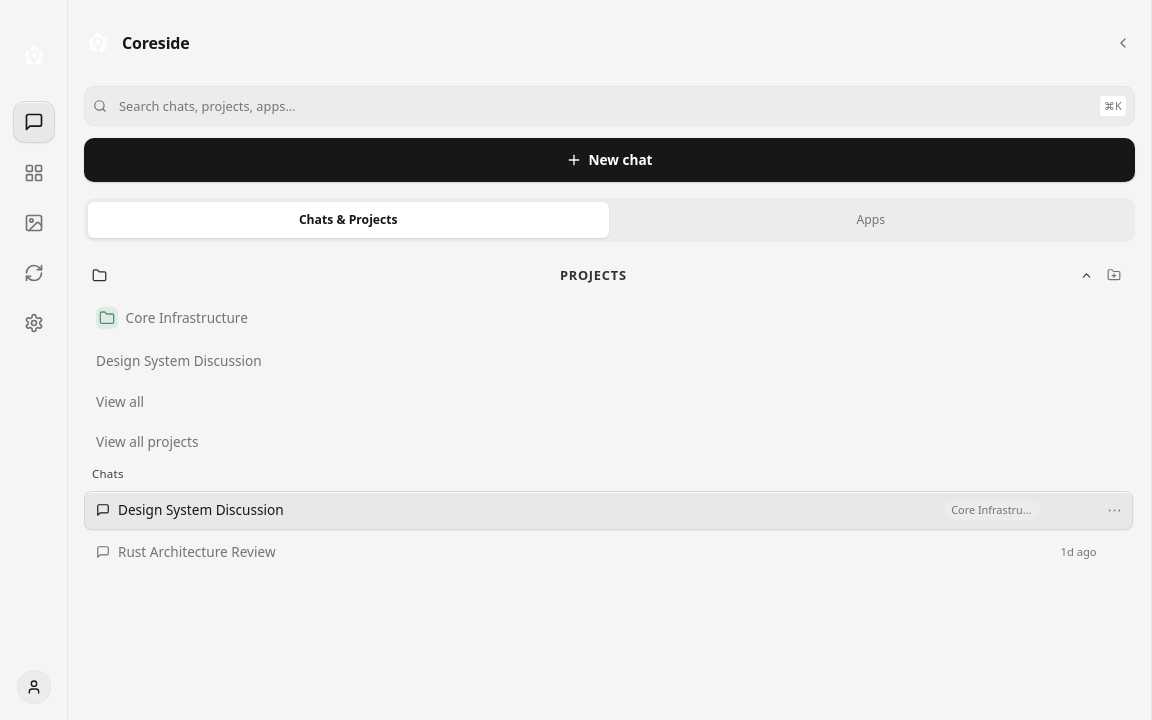
Scenario: DualSidebar Architecture › Unified Search & Keyboard Navigation (Cmd+K) › clears search input when clicking the clear (X) button
Type "Rust" into the search field named "Search chats, projects, and apps" at (610, 106), box [84,86,1135,126]
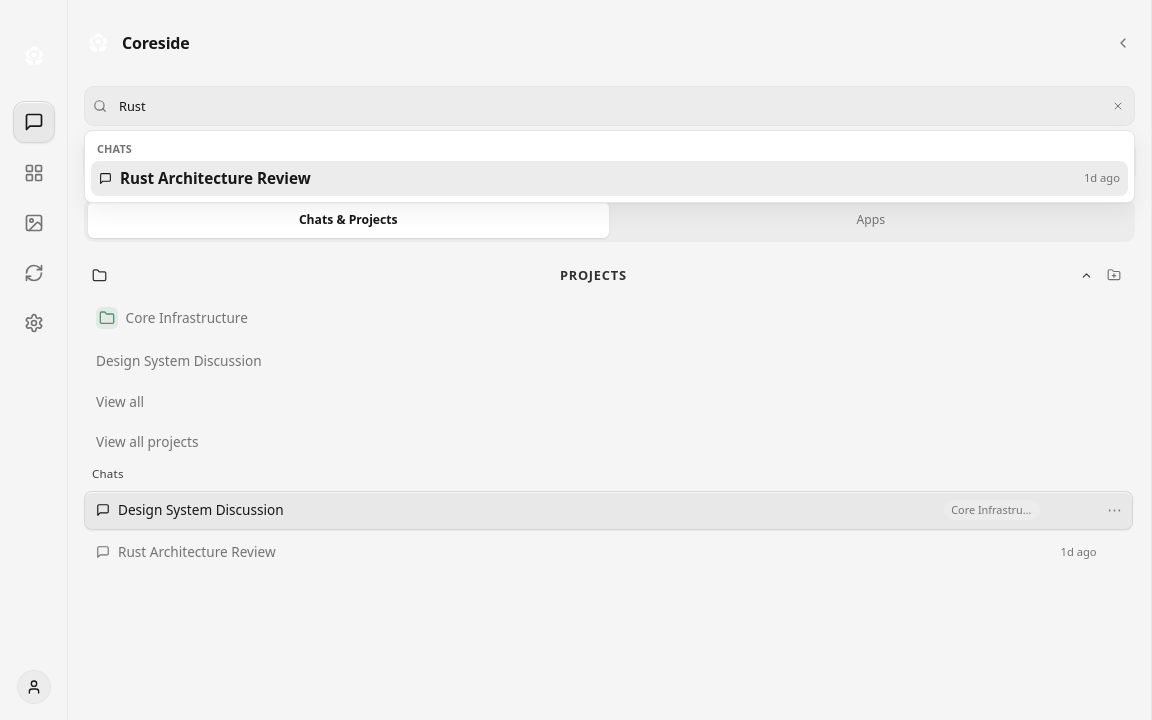
Click the button named "Clear search" at (1118, 106), box [1109,97,1127,115]
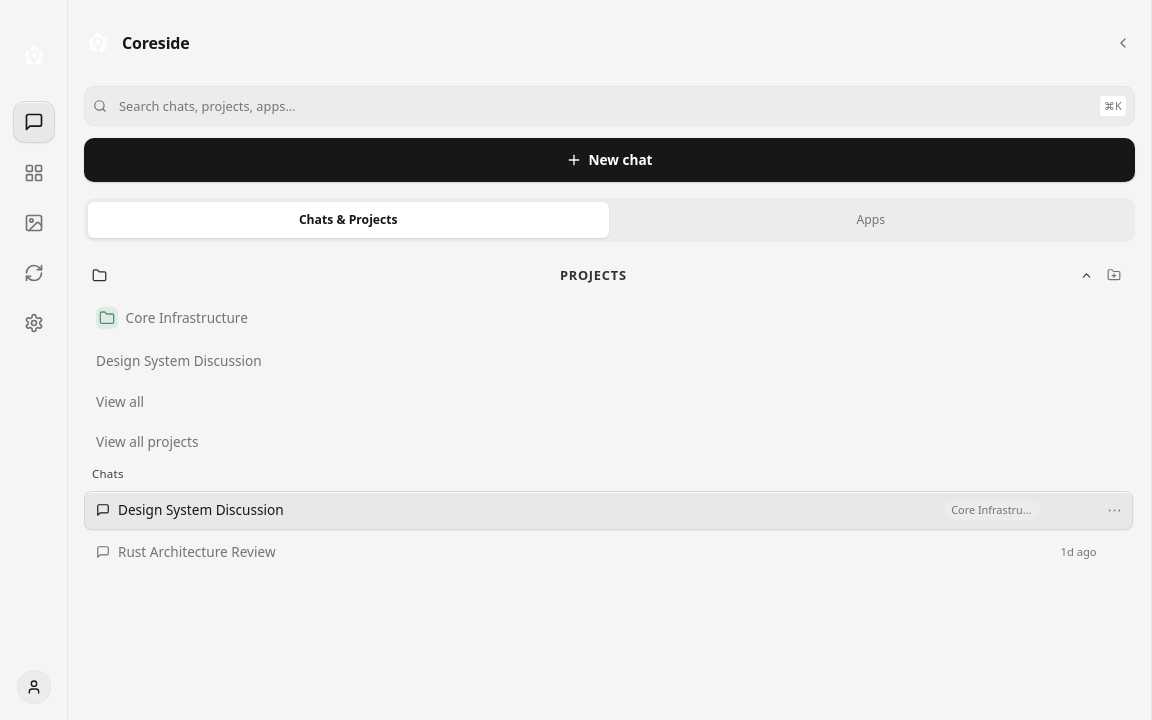
Expected: the search field named "Search chats, projects, and apps" is empty, [84,86,1135,126]
